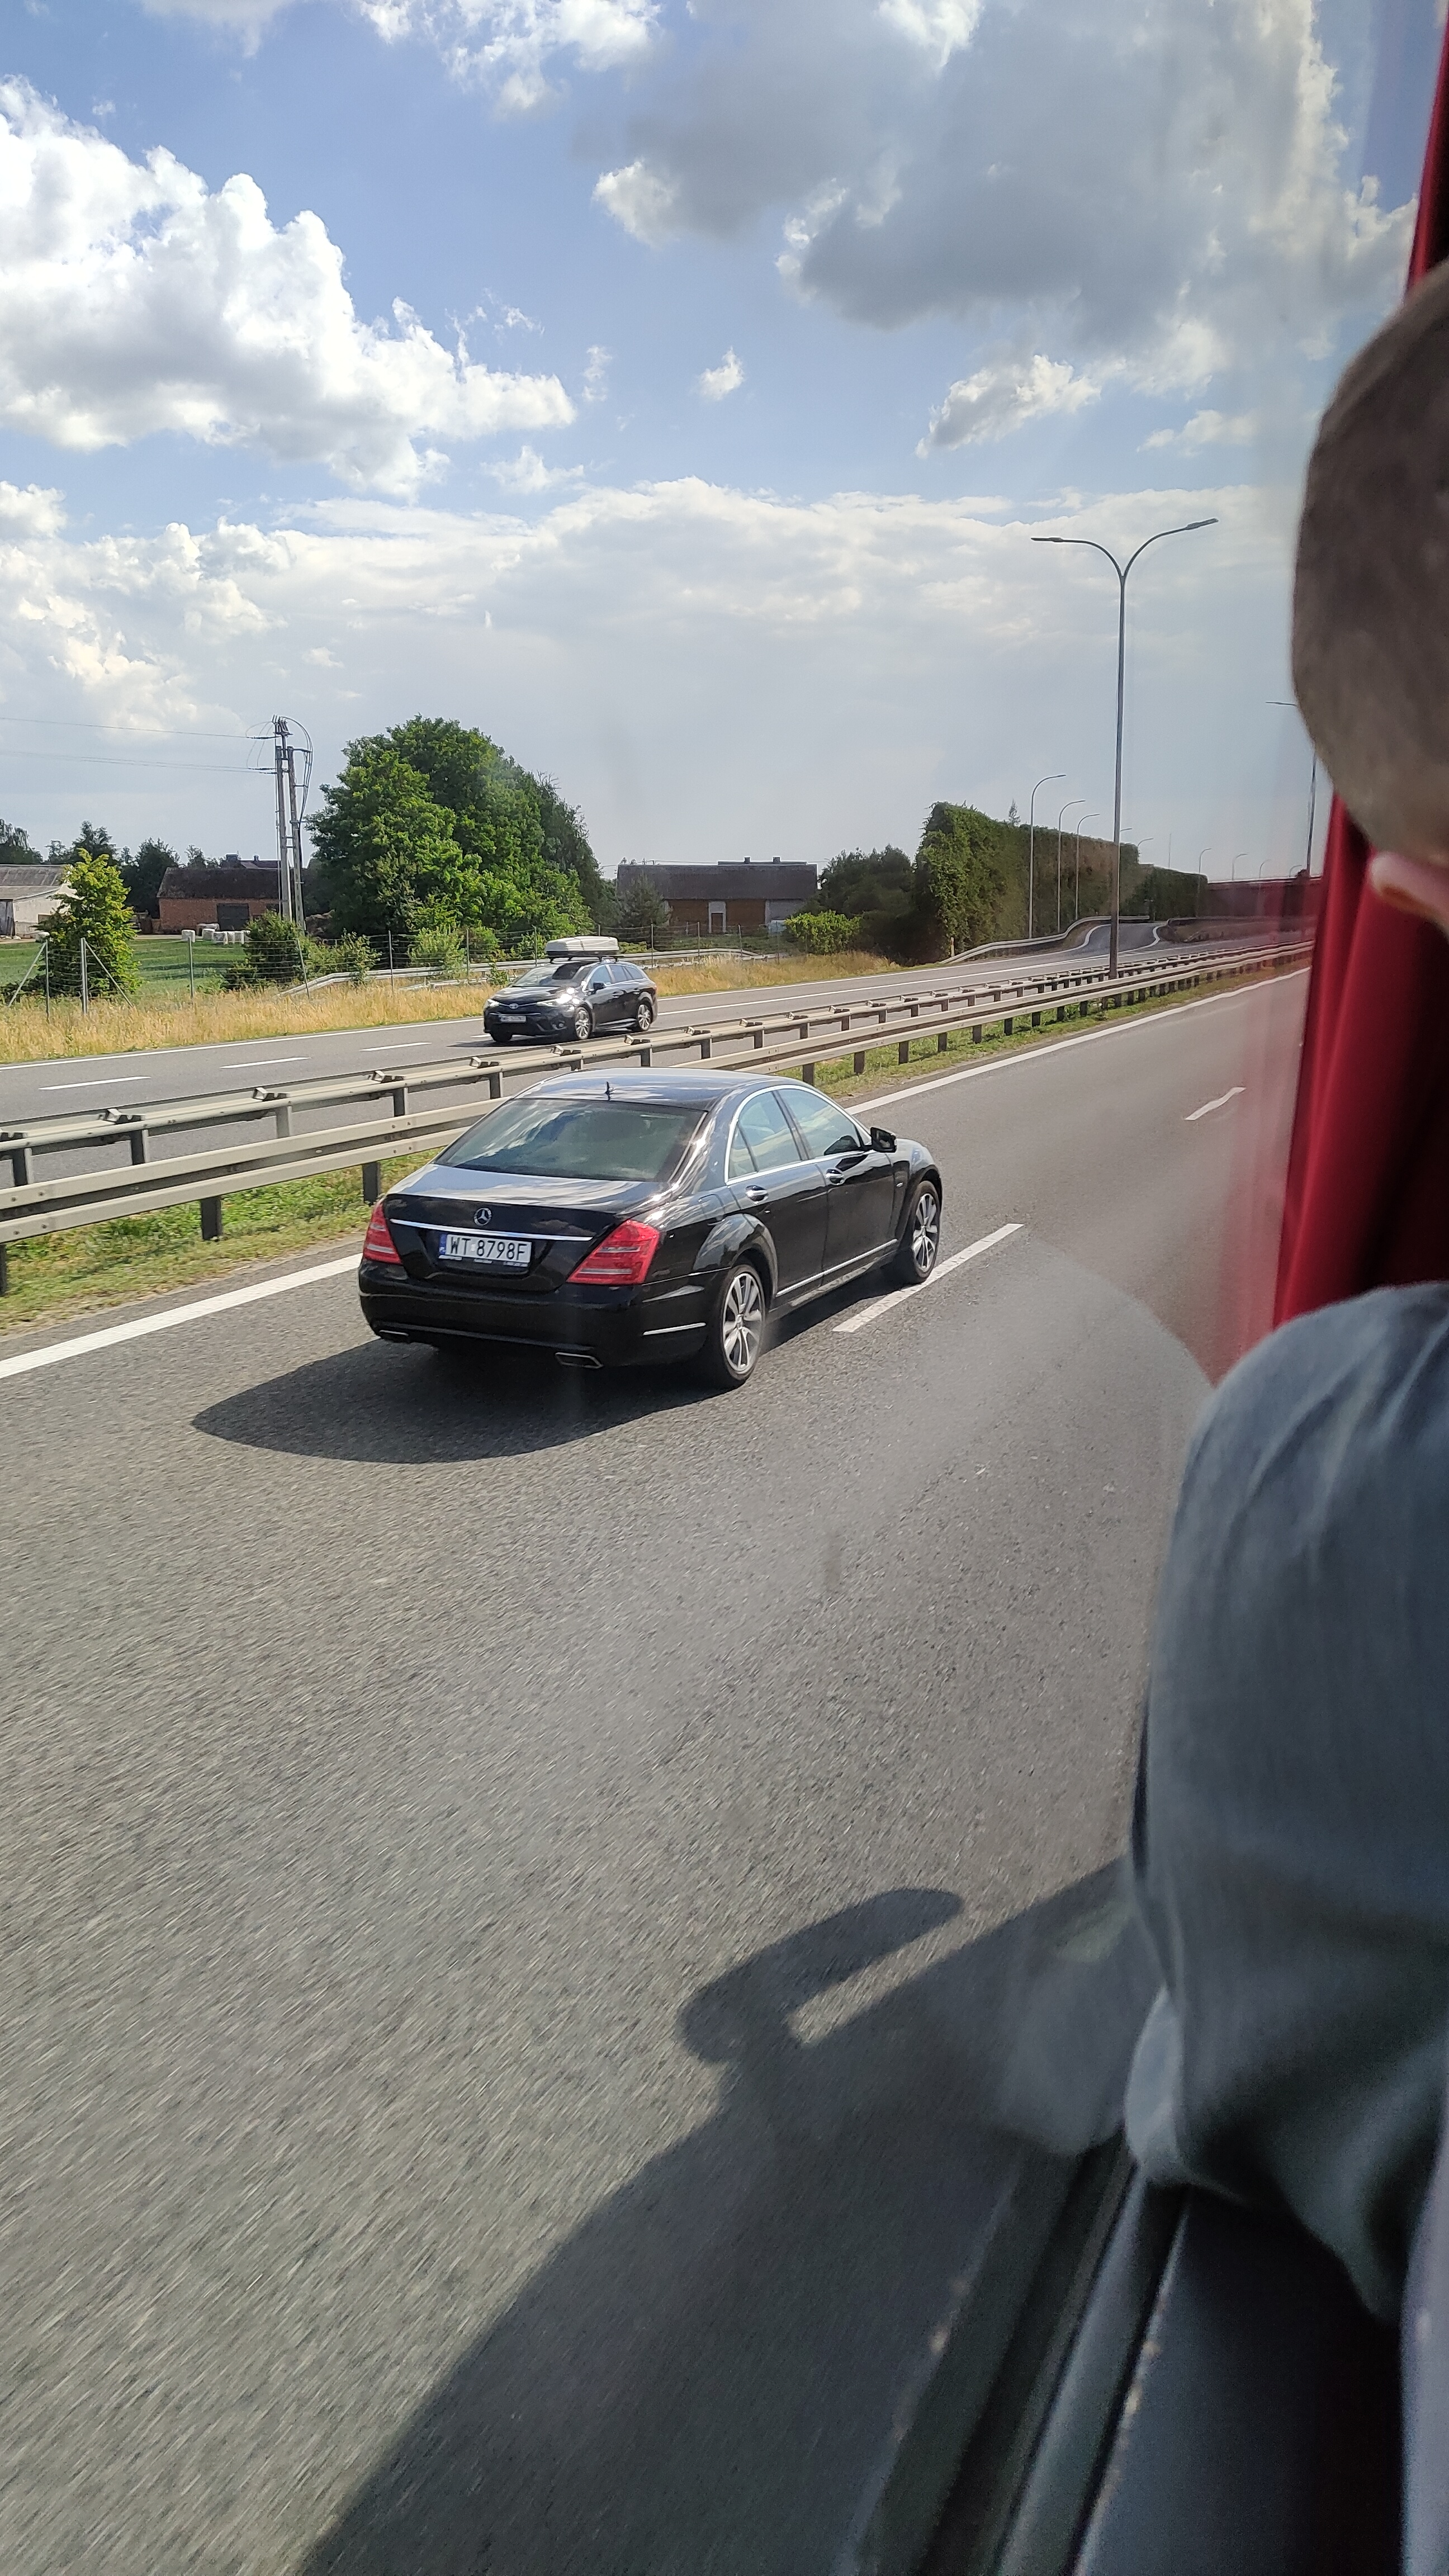number_plate: (438, 1233, 533, 1270)
